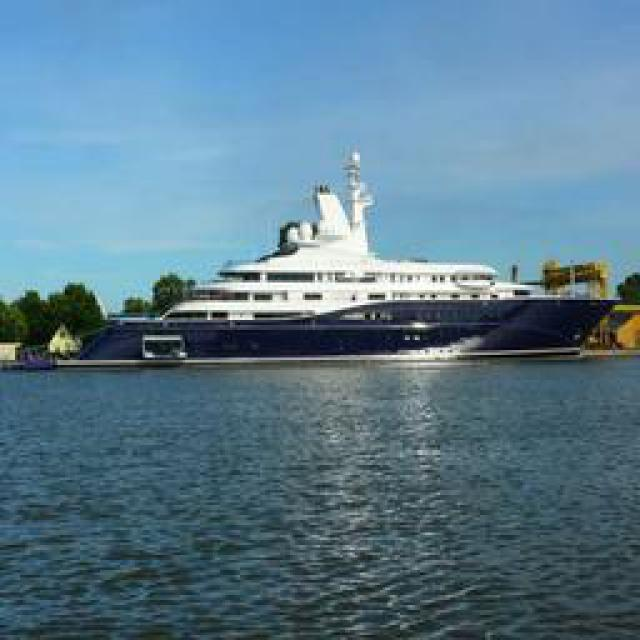Ship: (146, 149, 604, 359)
